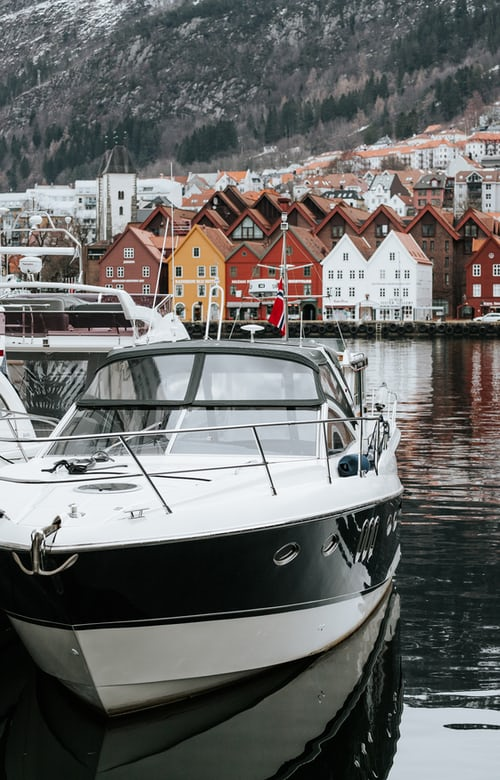yacht: (1, 330, 442, 727)
